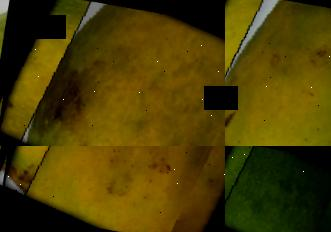PartiallyRipe: (0, 0, 225, 146), (225, 0, 331, 146)
Ripe: (0, 146, 225, 232)
Unripe: (225, 146, 331, 232)
